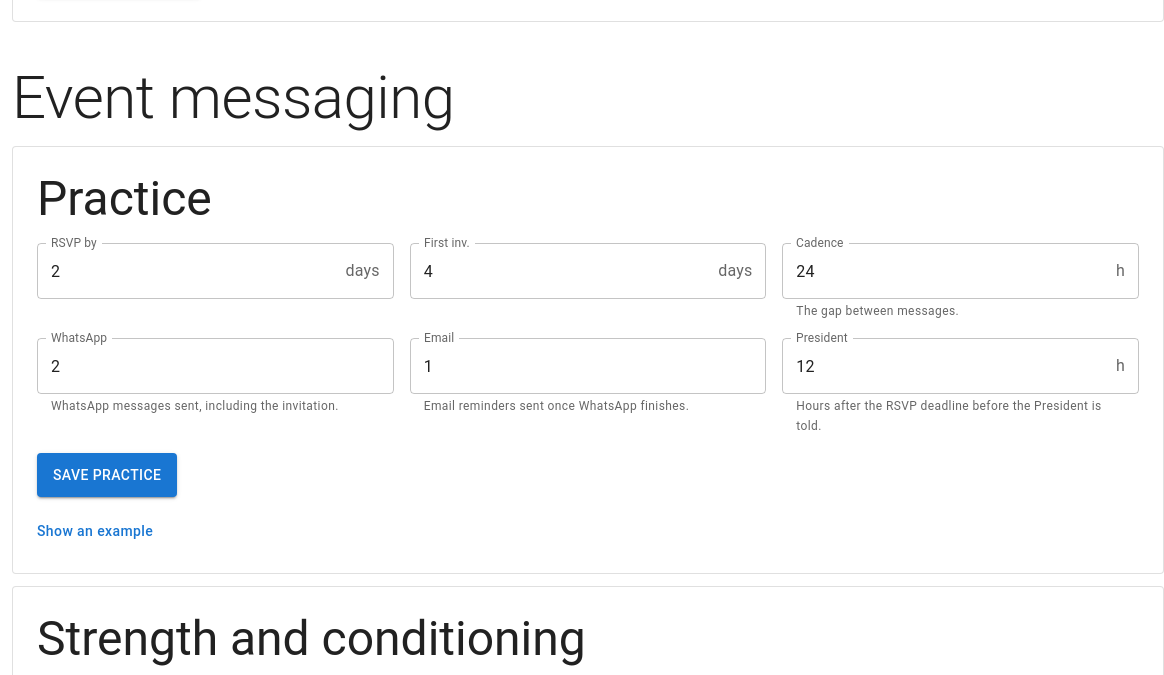
Test: a saved result never outlives the values it described — LAN-250 › shows the next result, so clearing is not silence
The image size is (1164, 675).
(page scrolled)
Submit the form with test id "schedule-row" that starts with "Practice"
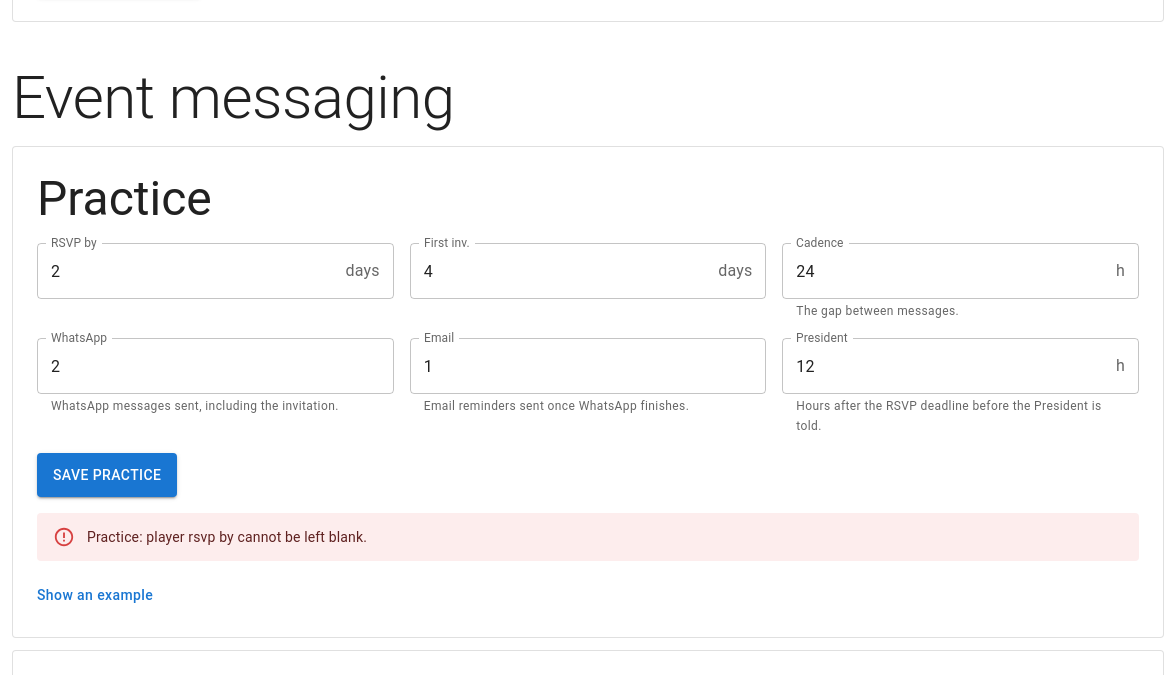
Replace the text in the number field named "rsvpByDays" with "3": (187, 271) [37,243,338,299]
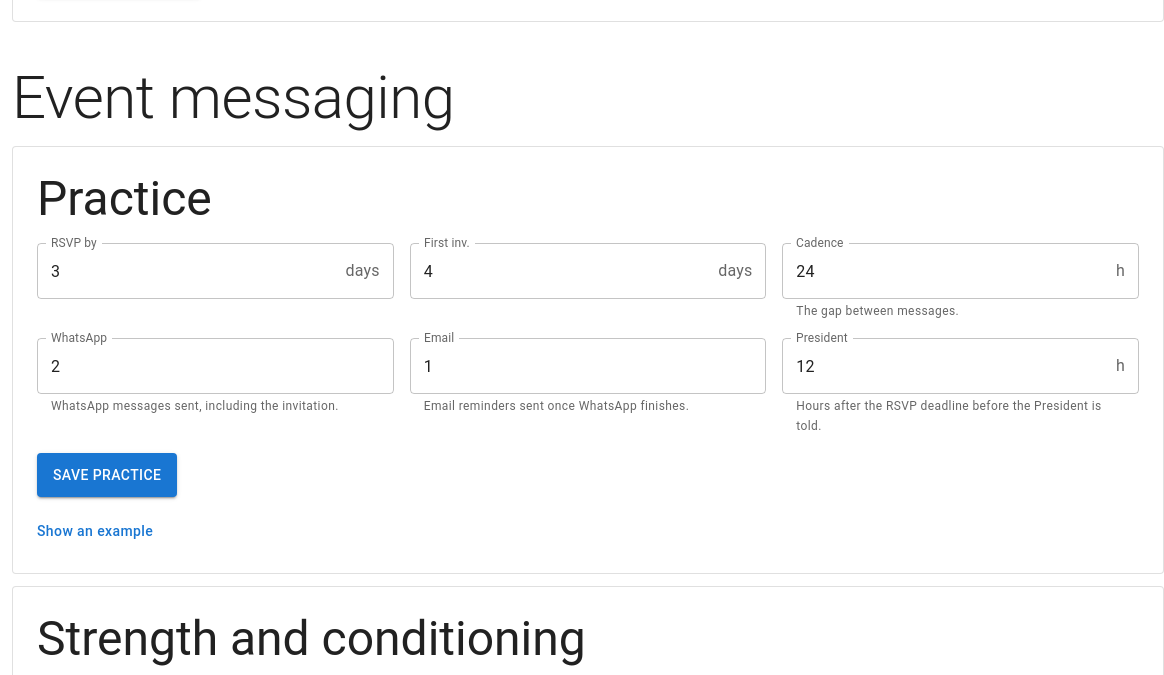
Submit the form with test id "schedule-row" that starts with "Practice"
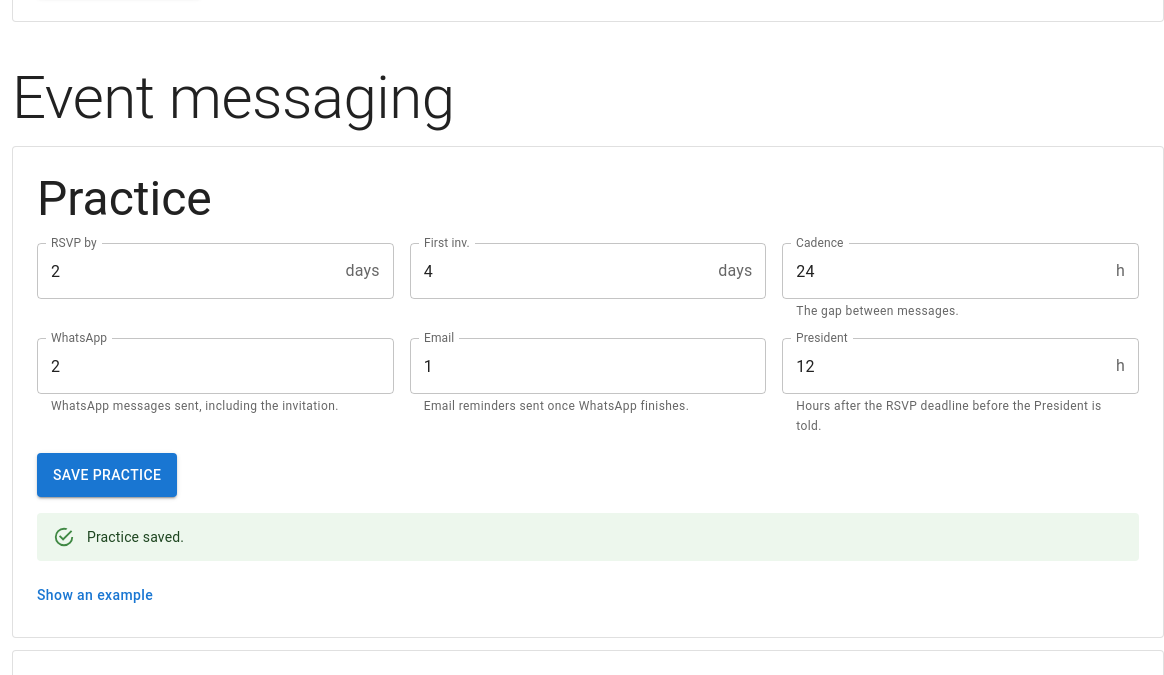
Result: the form with test id "schedule-row" shows "Practice saved." at [87,529,184,545]
